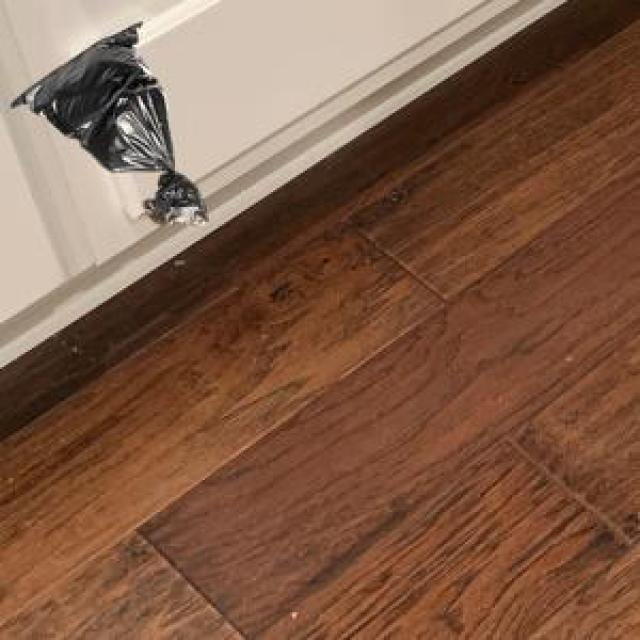waste: (11, 24, 175, 172), (149, 181, 205, 221)
